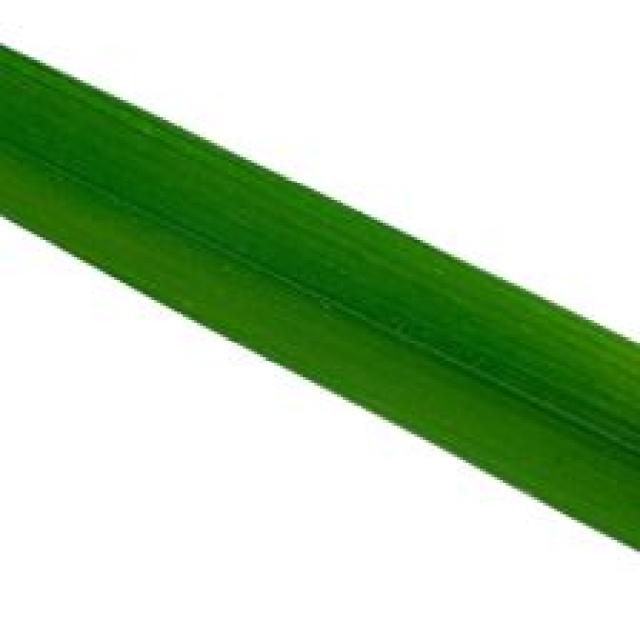Rice___Healthy_Rice_Plant: (0, 40, 637, 554)
